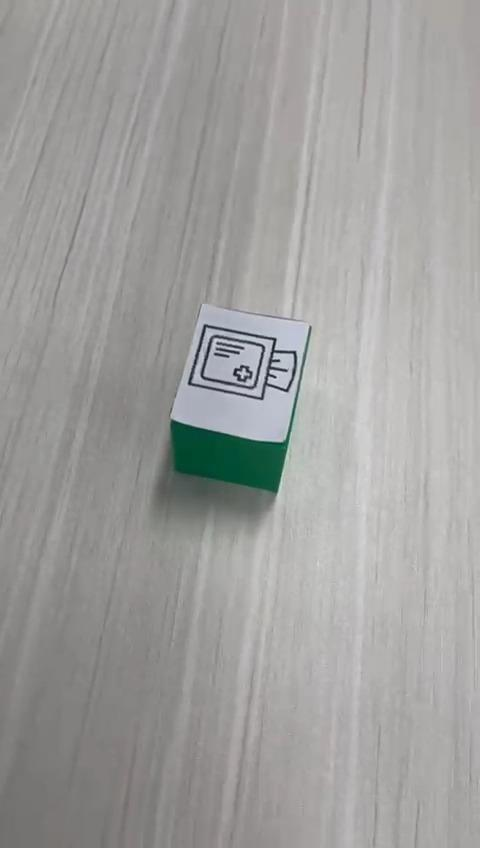Gauze: (168, 301, 312, 494)
